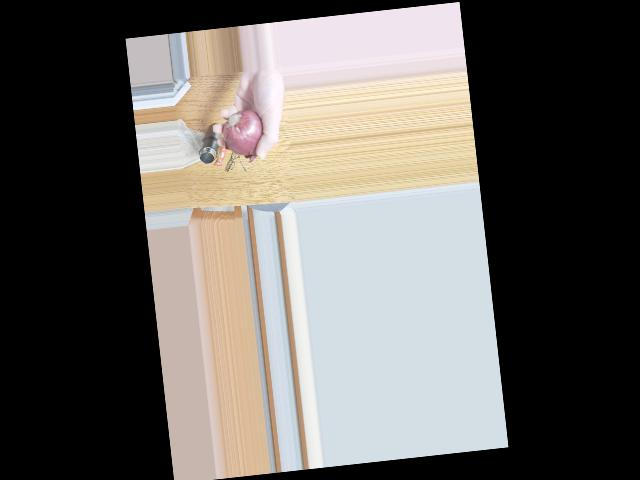onion: (224, 118, 261, 155)
